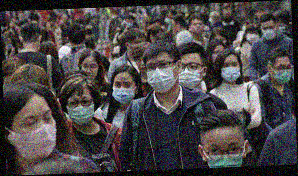with_mask: (8, 107, 58, 161), (205, 138, 246, 167), (146, 57, 179, 93), (65, 94, 96, 126), (178, 58, 203, 89), (110, 79, 136, 104), (220, 59, 242, 84), (272, 61, 293, 85), (260, 22, 277, 40), (210, 48, 225, 62), (246, 30, 261, 43), (125, 18, 135, 29)
without_mask: (81, 61, 100, 80), (136, 54, 147, 75), (190, 19, 204, 34), (170, 21, 180, 33), (222, 6, 232, 15)
